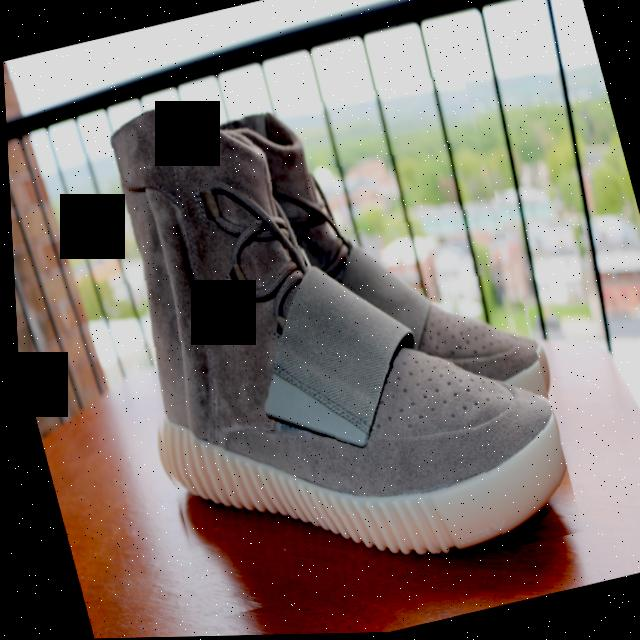shoe: (68, 31, 581, 623)
